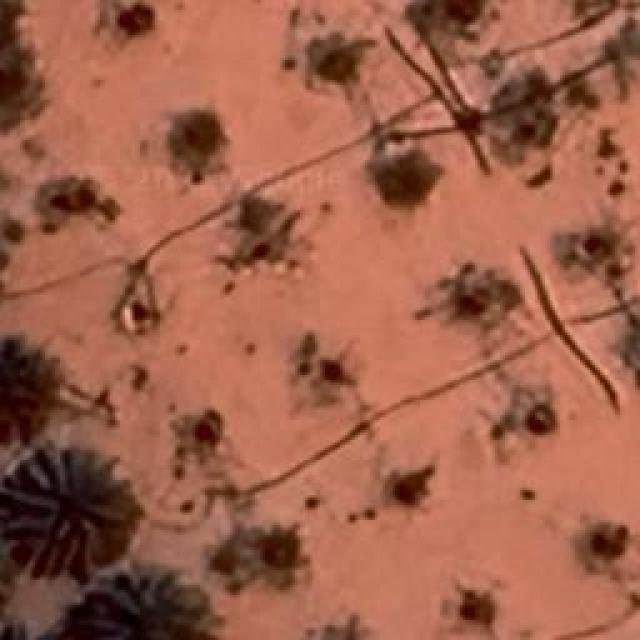PalmTree: (0, 448, 118, 568), (72, 570, 210, 640), (0, 328, 55, 450)
